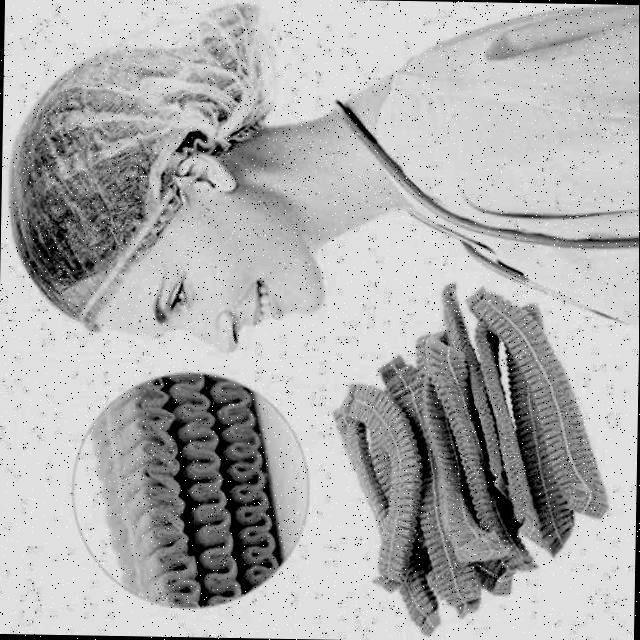no_hairnet: (185, 226, 319, 324)
